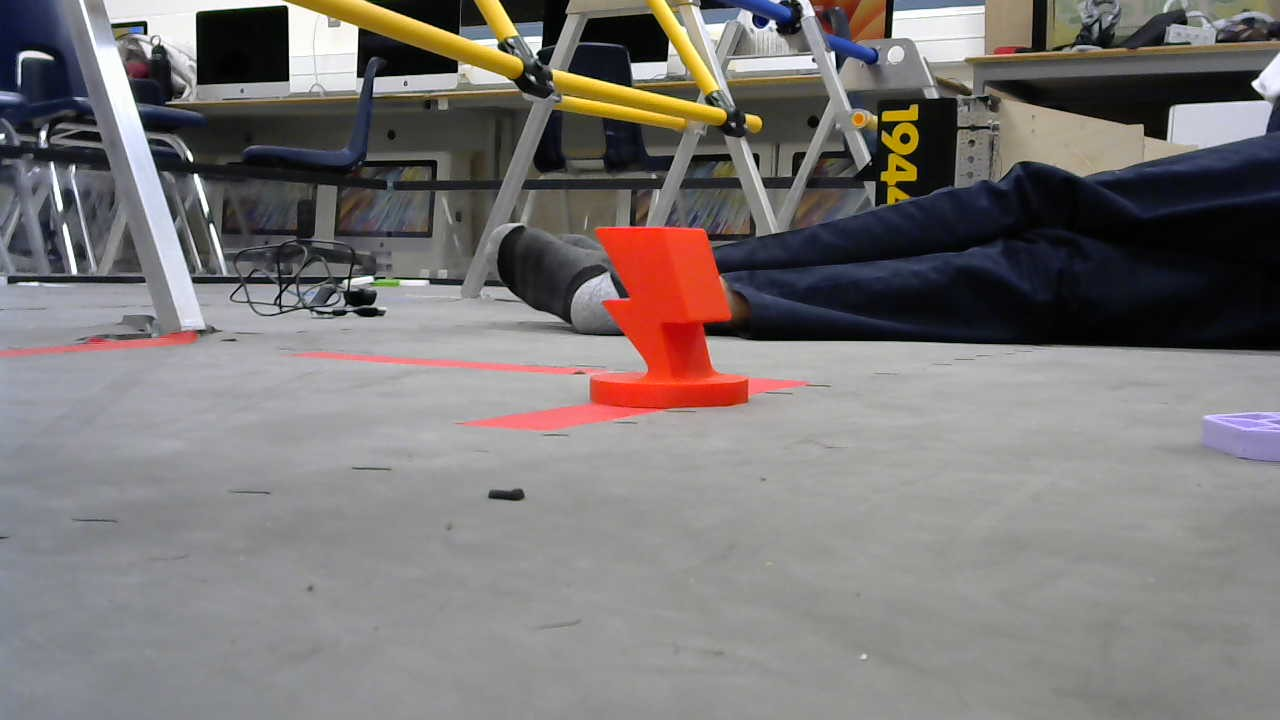redobject: (588, 221, 752, 408)
